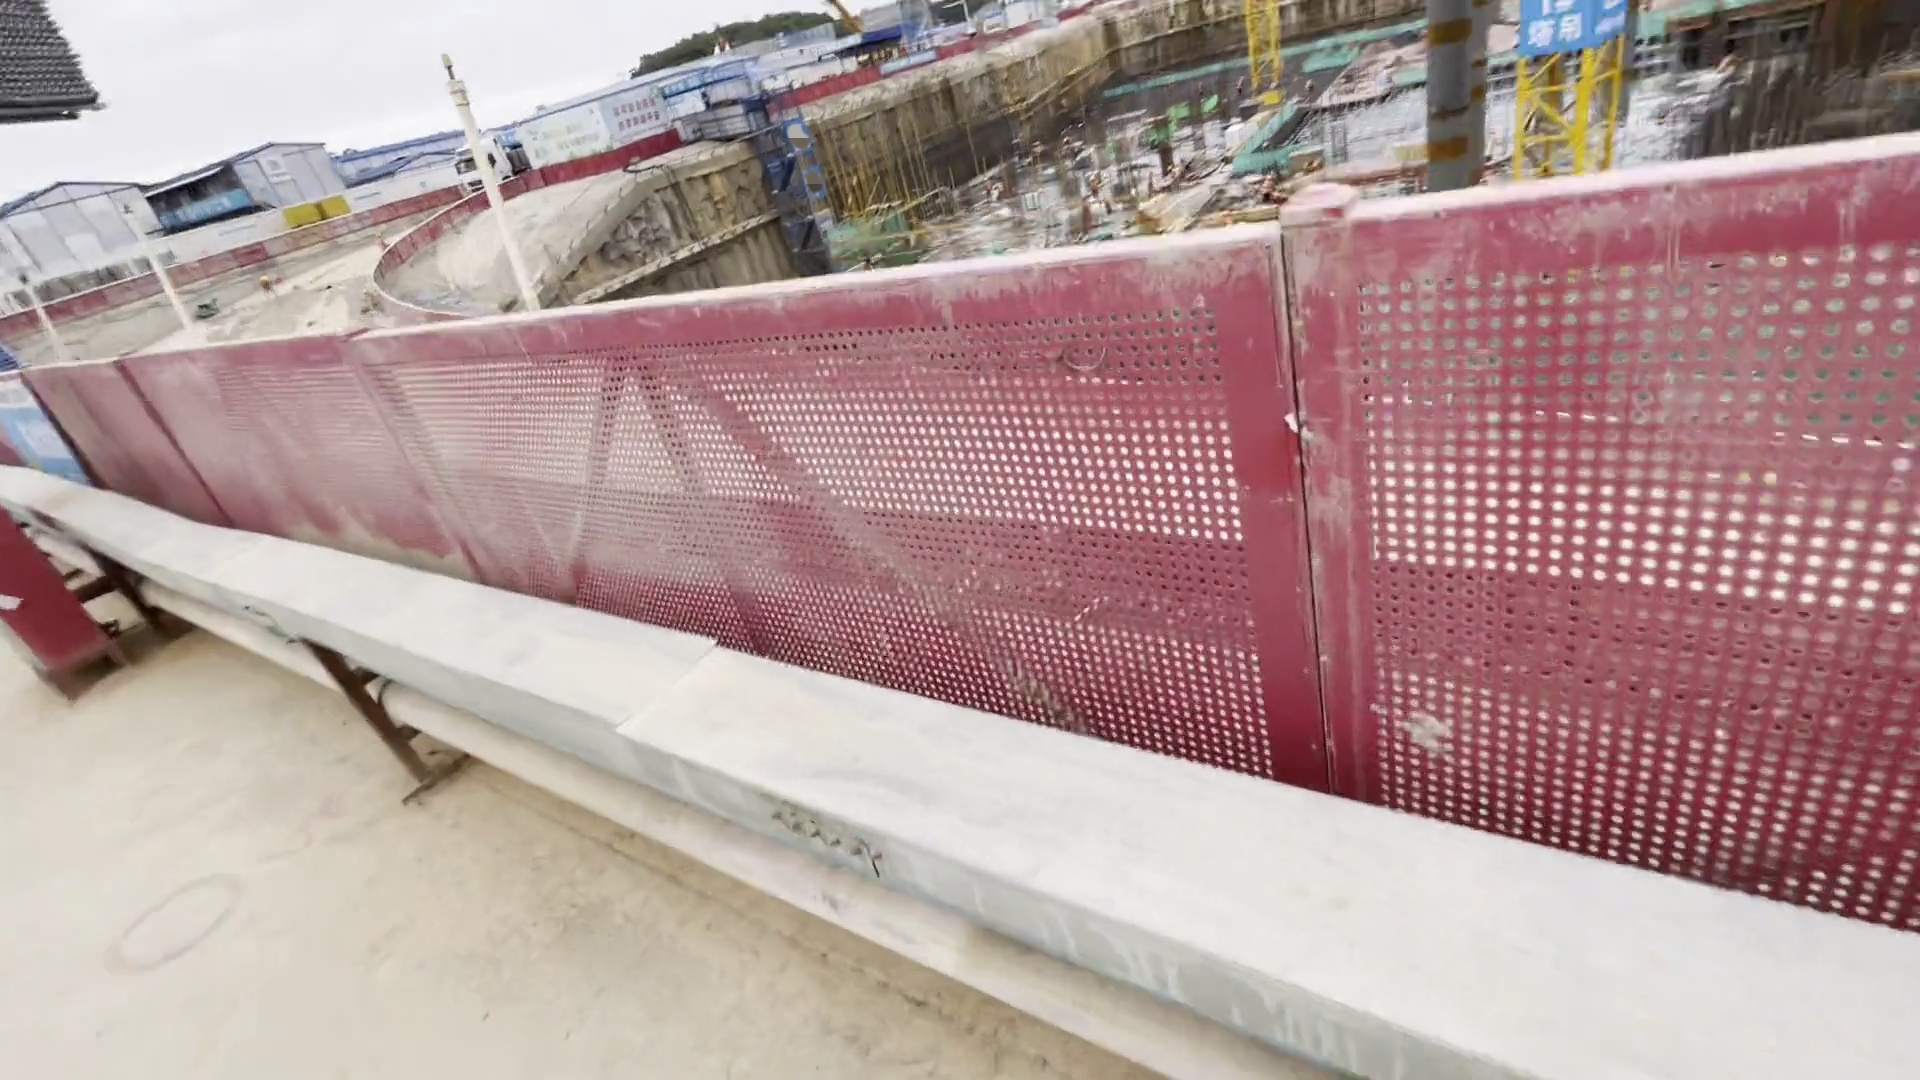fence: (1, 277, 1805, 839)
scaffold: (1, 3, 102, 111)
slogan: (144, 136, 315, 229), (531, 80, 686, 161)
